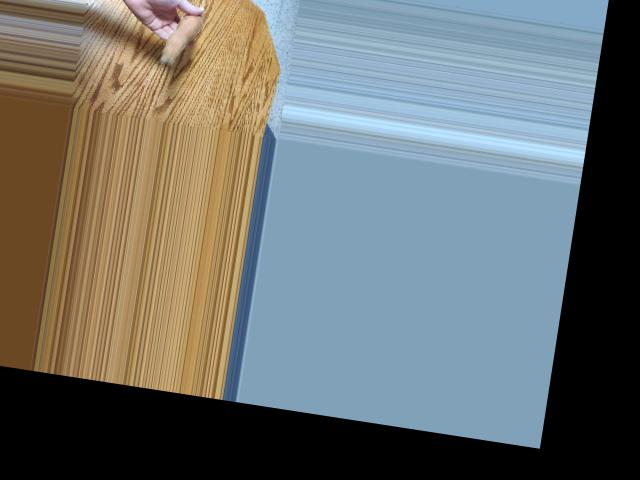sweet_potato: (156, 4, 205, 69)
